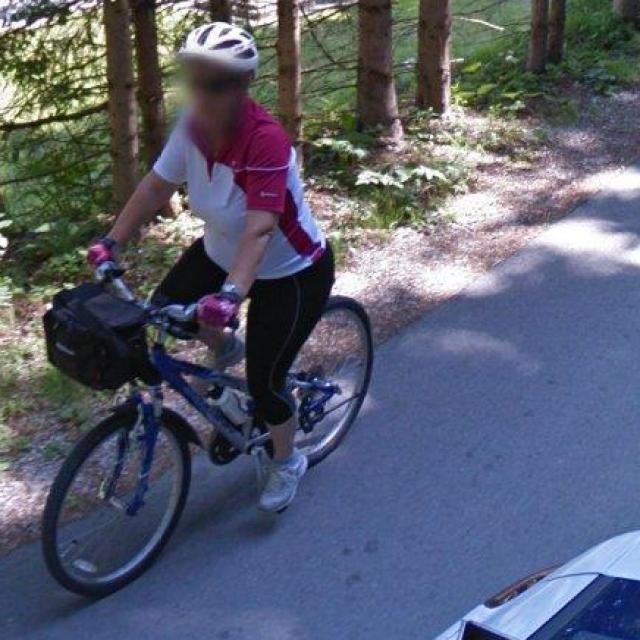bicycle: (42, 265, 274, 599), (287, 298, 374, 470)
